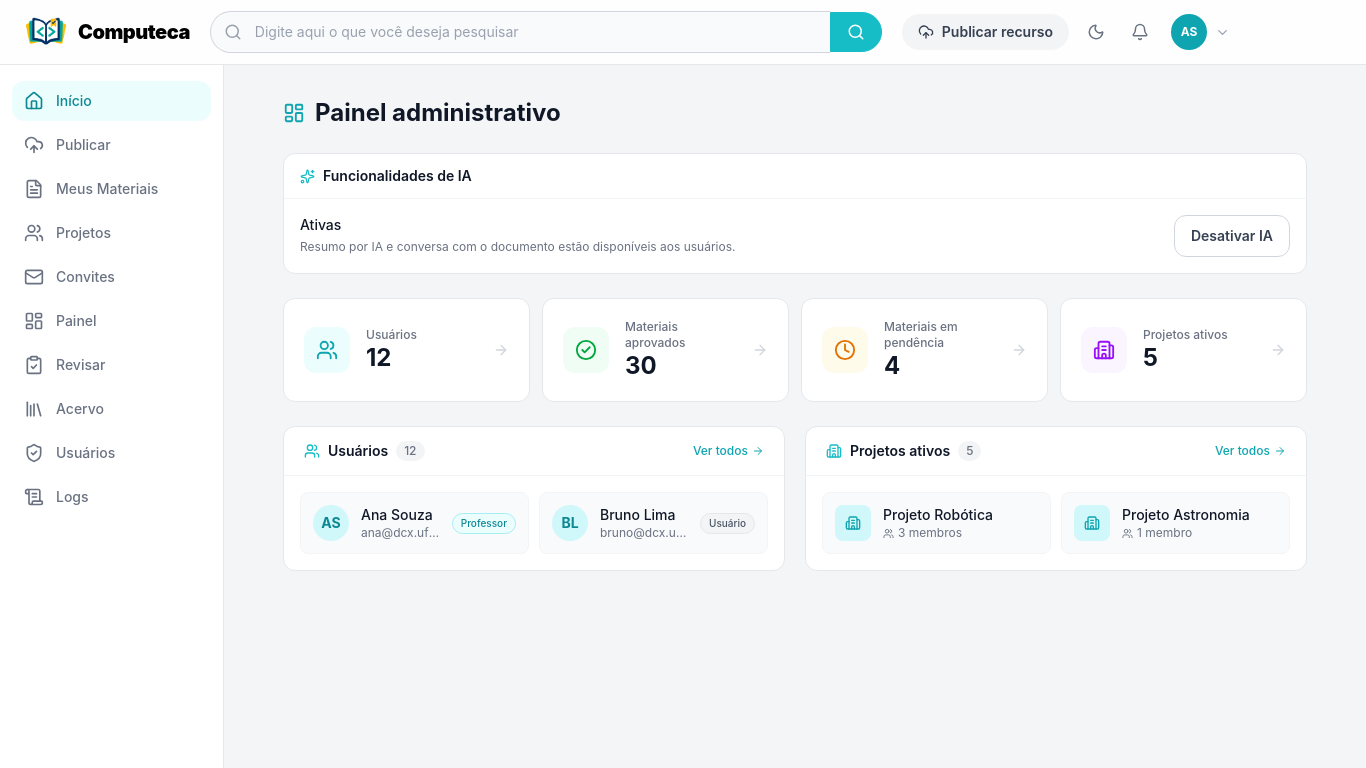
Test: AdminDashboardPage › disponibilidade das funcionalidades de IA › falha na alteração mostra mensagem e não derruba a tela
Click the button "Desativar IA" at (1232, 236), box left=1174, top=215, right=1290, bottom=257
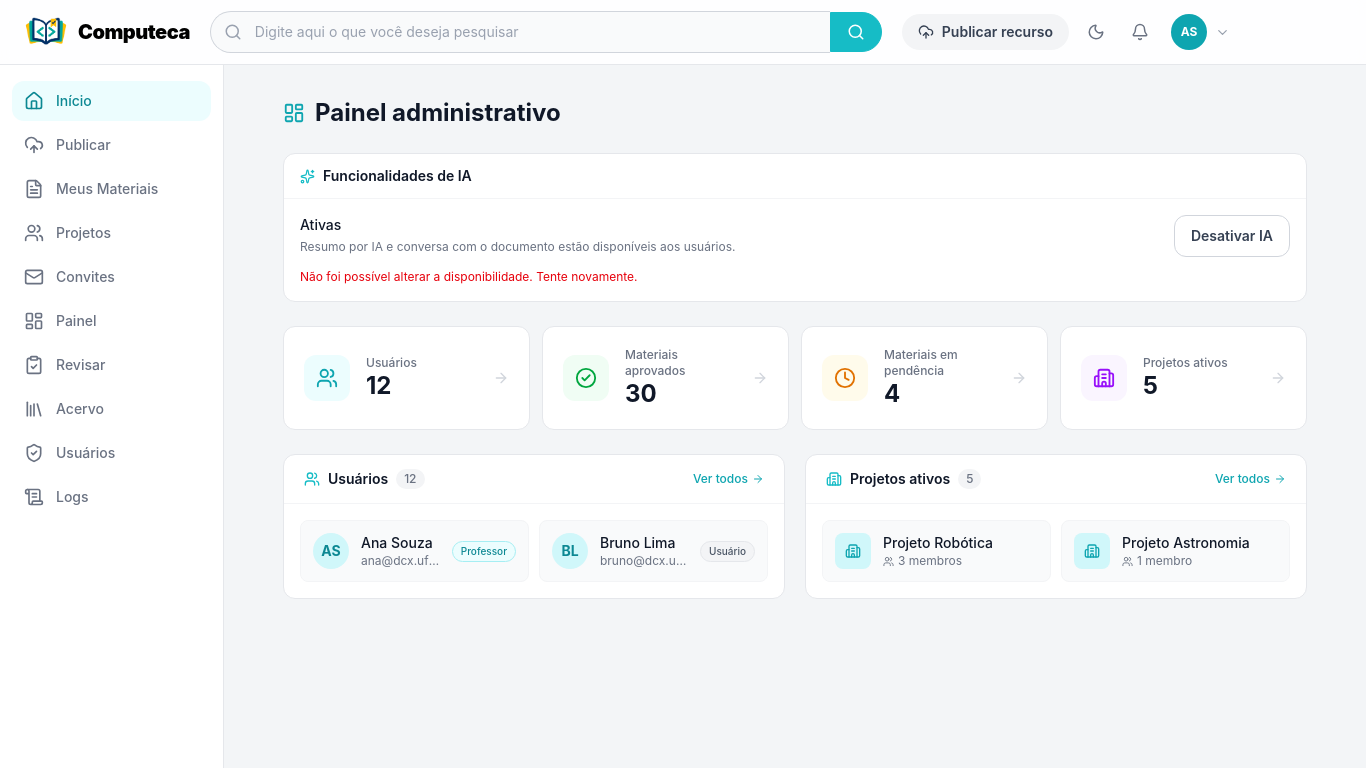
Check: the text "Não foi possível alterar a disponibilidade. Tente novamente." is shown, box left=300, top=269, right=638, bottom=284
